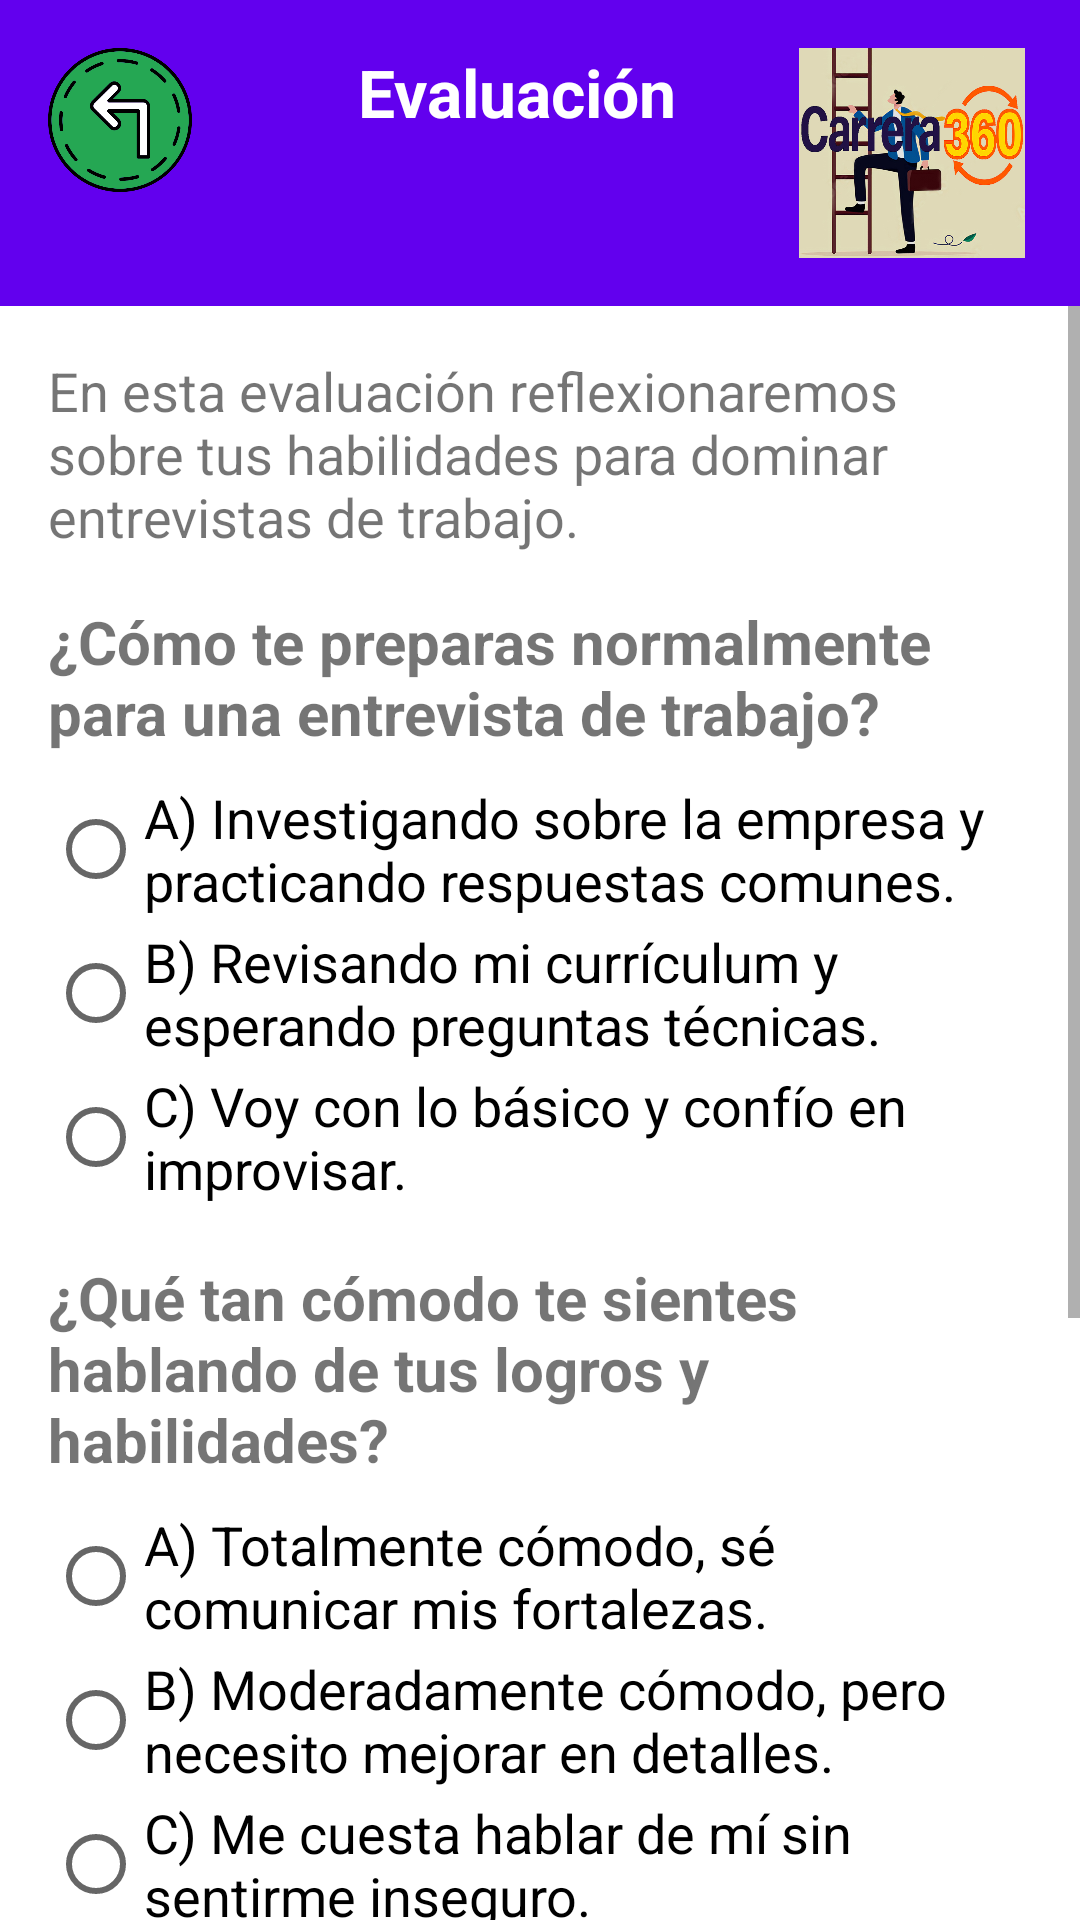

Icons on this 1080*1920 Android screen, each with its box as {"x1": x1, "y1": y1, "x2": x2, "y2": y2}:
Regresar a Inicio: {"x1": 48, "y1": 48, "x2": 192, "y2": 192}
